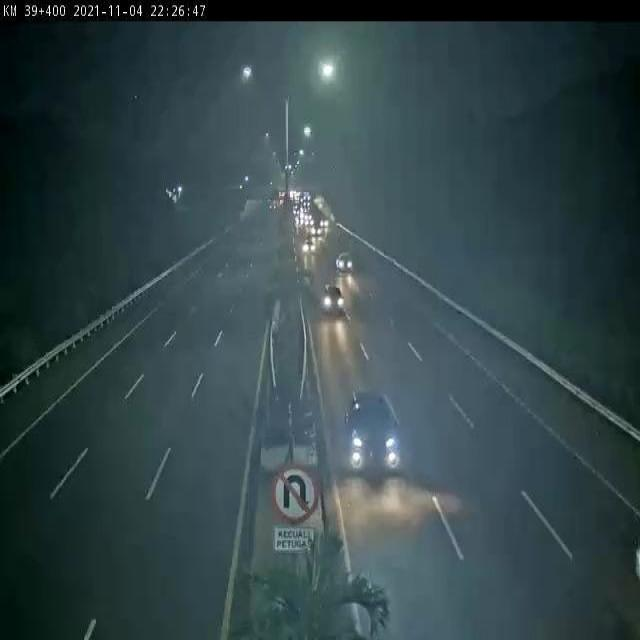Car: (339, 386, 412, 486), (316, 275, 356, 329), (330, 241, 366, 290)
